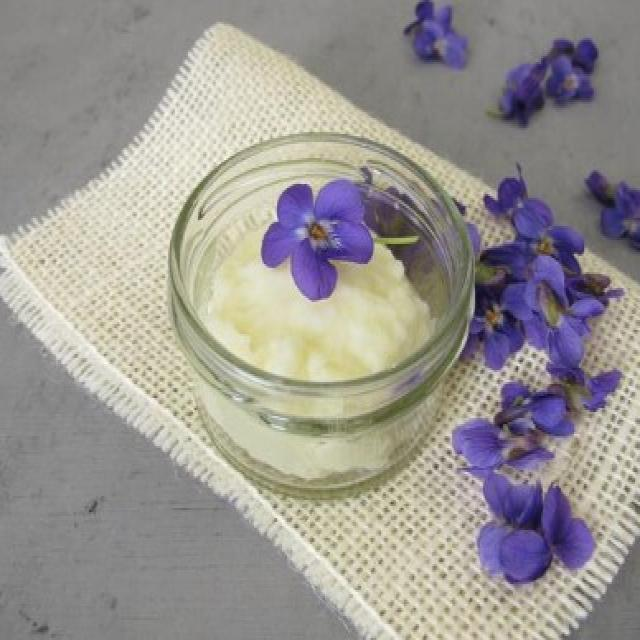electronic: (162, 127, 480, 508)
